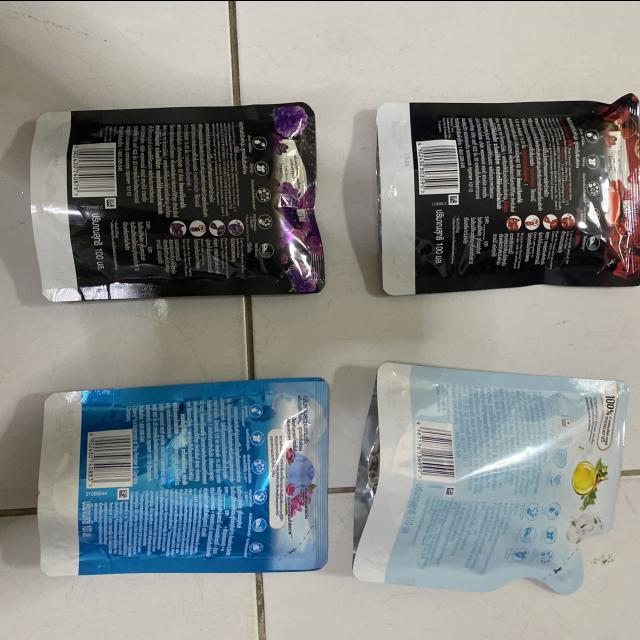plastik: (354, 362, 629, 594), (30, 101, 325, 300), (38, 377, 329, 574), (377, 93, 640, 294)
